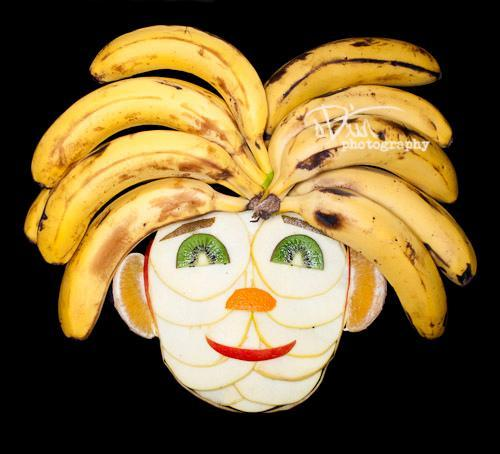banana: (37, 136, 250, 271), (50, 174, 209, 333), (302, 189, 457, 344), (32, 76, 263, 172), (269, 79, 466, 191), (86, 24, 267, 141), (270, 29, 441, 100)
